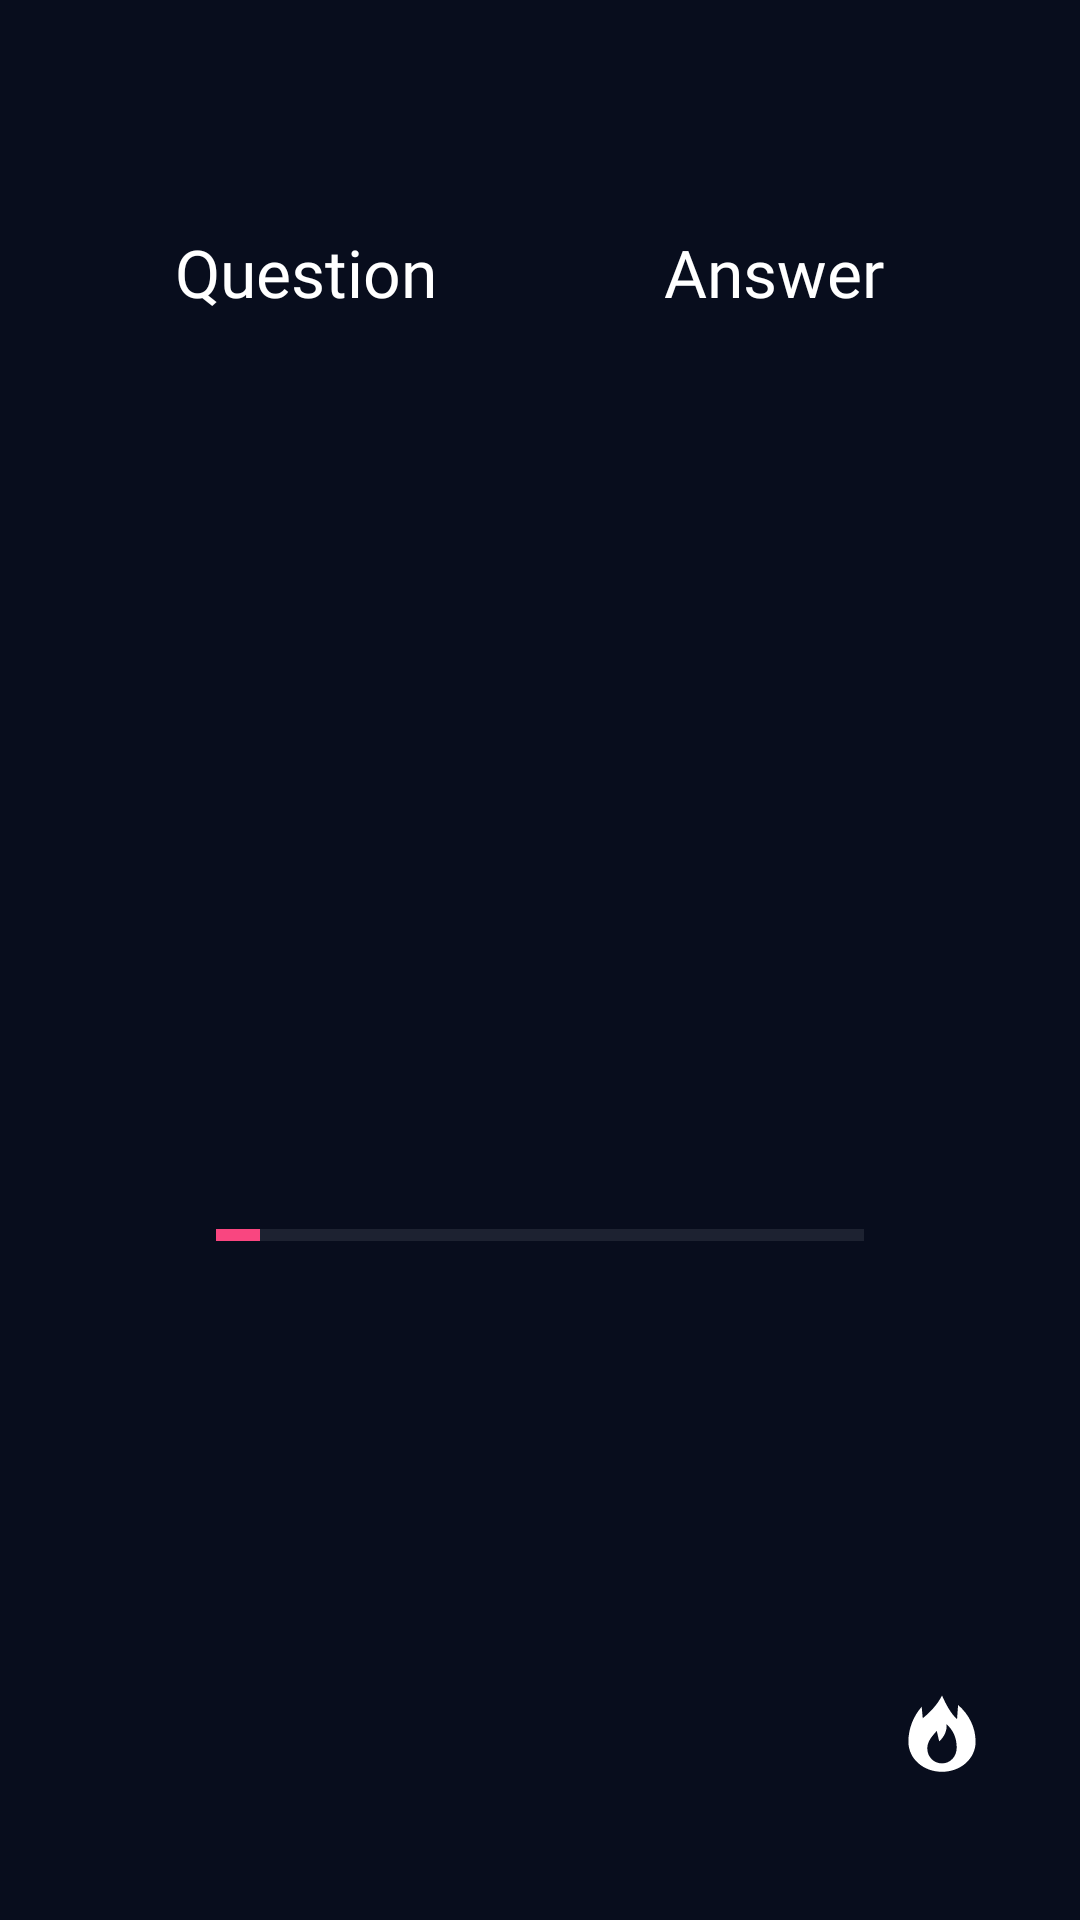

Where icons sit on this 1080px x 1920px app screen, as [x1,y1,x2,y2]:
Flame showing your current streak: [908,1696,976,1772]
